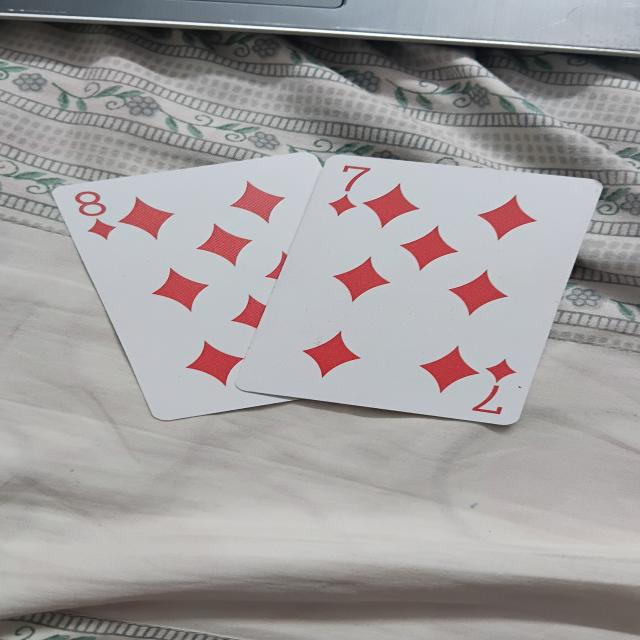7D: (234, 155, 597, 433)
8D: (56, 151, 326, 416)
